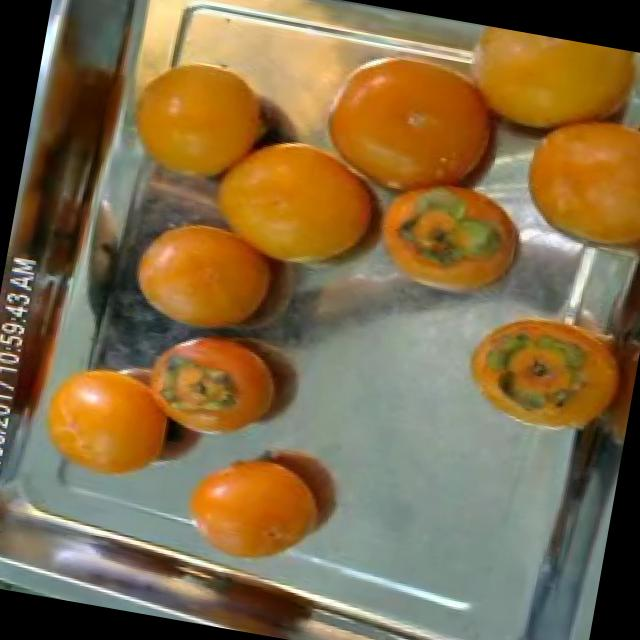Fruit: (194, 110, 422, 300), (160, 408, 367, 588), (439, 282, 640, 458), (107, 192, 314, 360), (356, 152, 554, 326), (120, 305, 324, 467), (491, 79, 640, 275), (18, 352, 208, 504)
